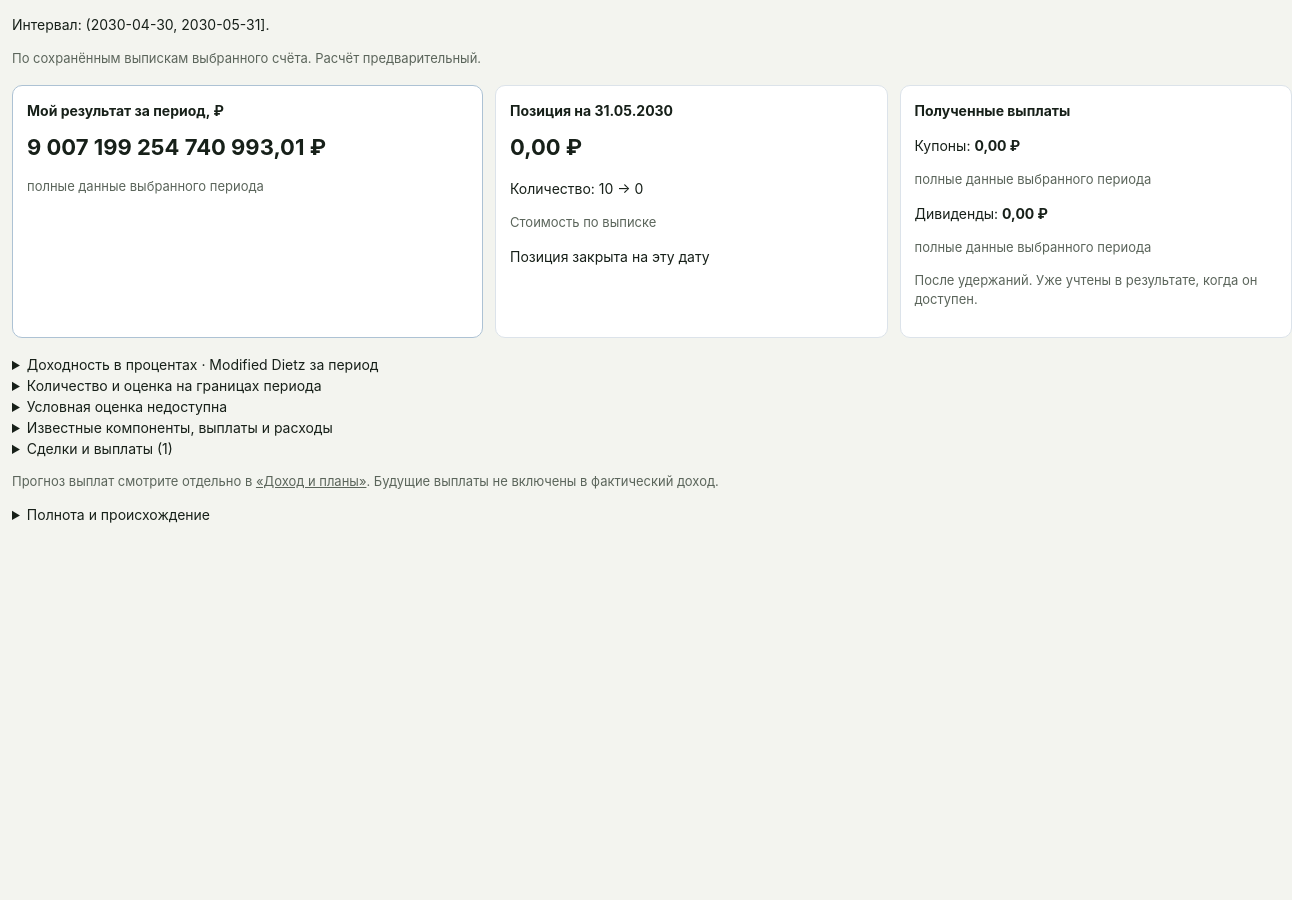
it: personal summary keeps exact money, dated zero closing position and secondary period MD
Expected: the text "9 007 199 254 740 993,01 ₽" is shown, [27,134,326,160]
Expected: the text "0,00 ₽" below "Позиция на" is shown, [510,134,582,160]
Click the heading "Доходность в процентах · Modified Dietz за период" at (203, 364), box [27,356,378,372]
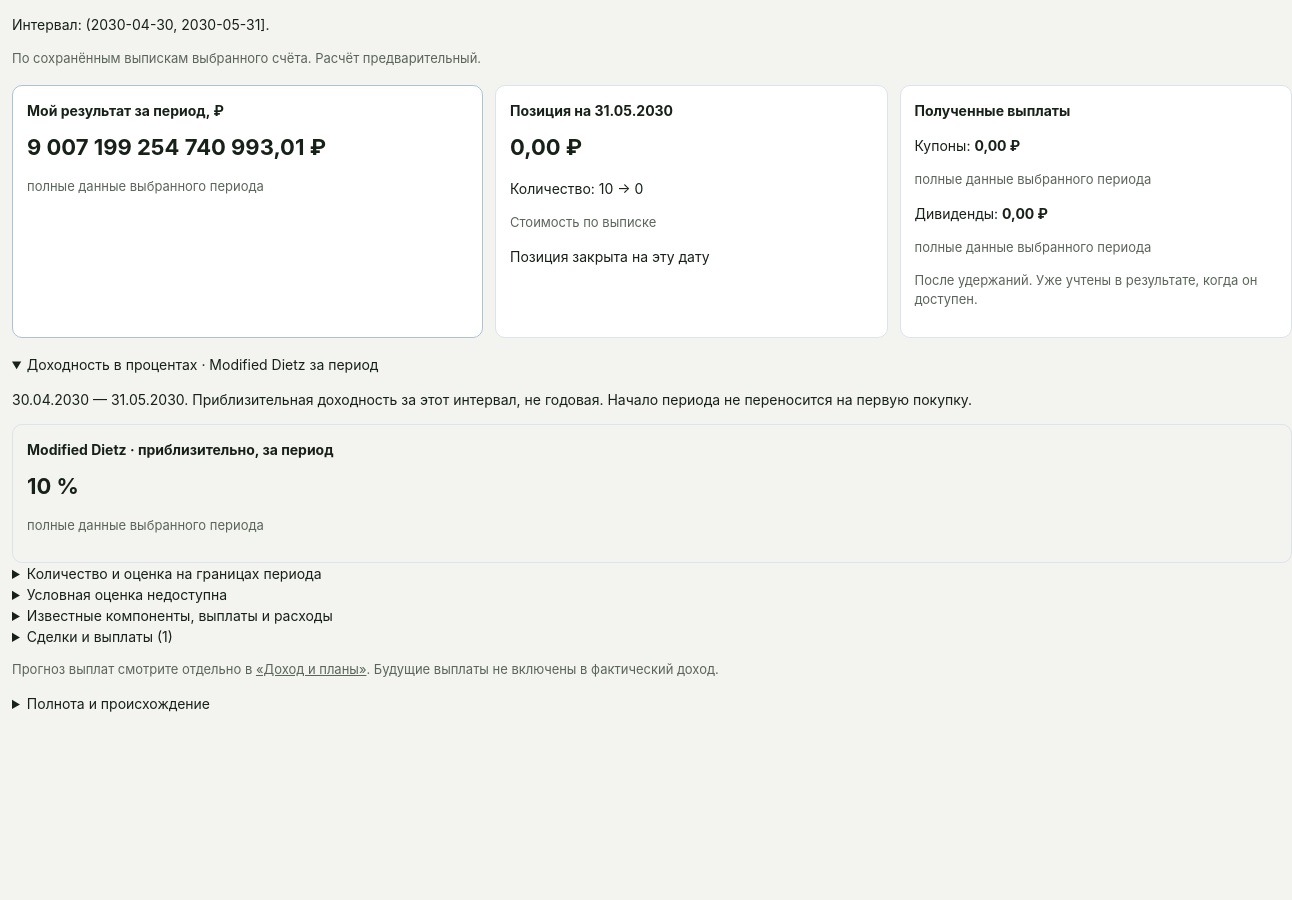
Result: the text "10 %" is shown at [27,472,79,498]
